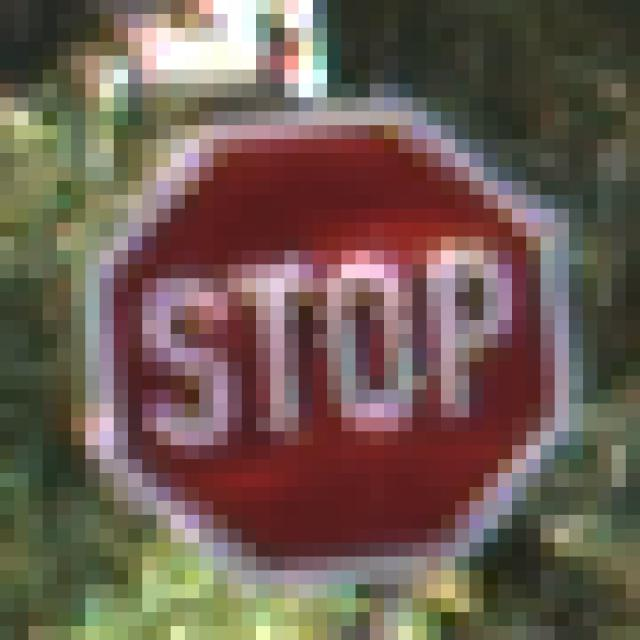STOP: (72, 85, 556, 558)
